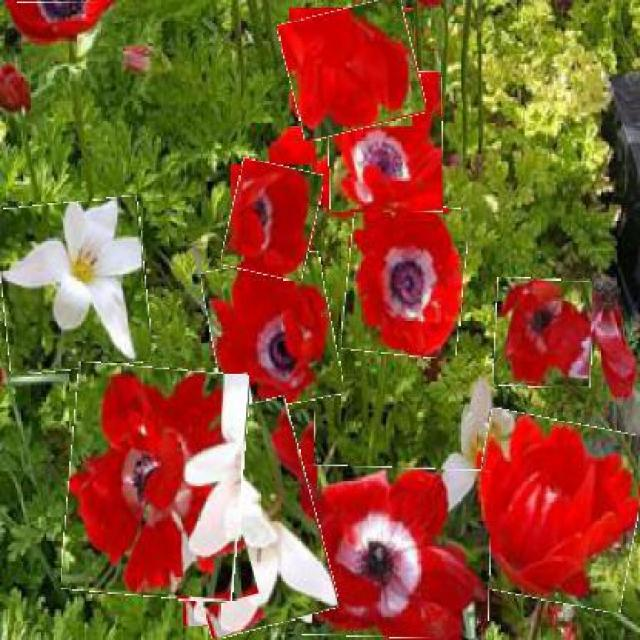Flower: (65, 365, 246, 600), (171, 403, 328, 634), (289, 467, 492, 639), (466, 414, 639, 608), (0, 199, 149, 373), (206, 256, 339, 412), (345, 202, 466, 359), (283, 1, 422, 135), (328, 72, 445, 213), (226, 161, 320, 278), (495, 278, 593, 389), (3, 2, 114, 44)
